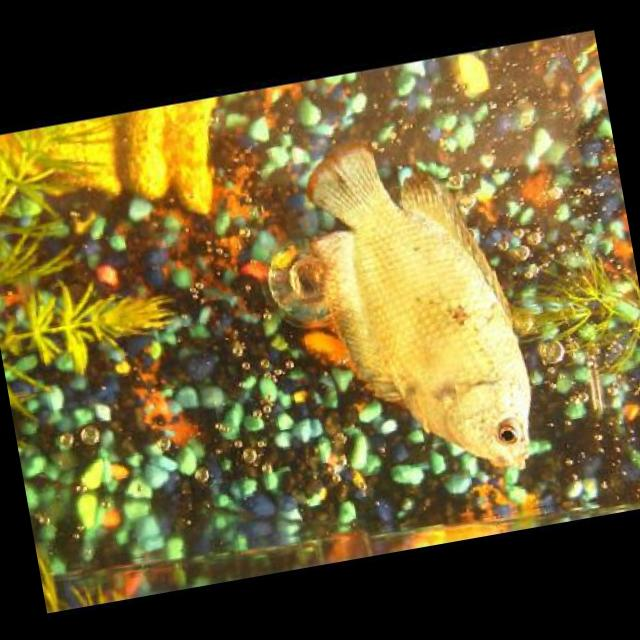Gourami: (294, 120, 538, 490)
